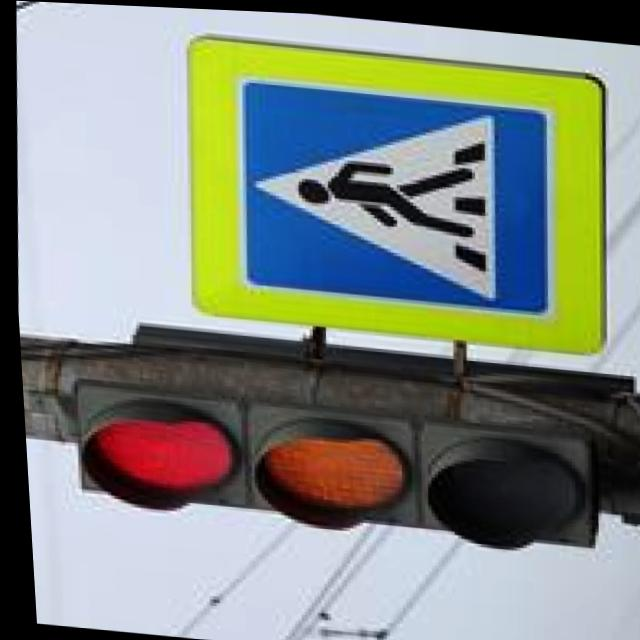red_light: (32, 368, 268, 547)
yellow_light: (232, 355, 426, 551)
